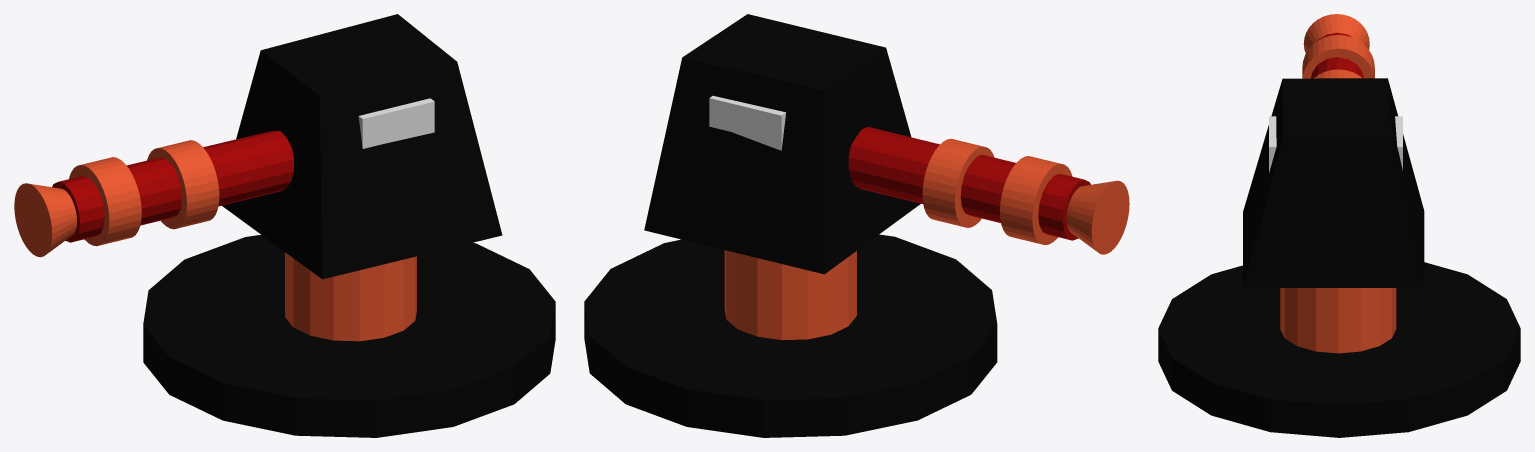
The model's file is CanonTower.fbx.
3 renders of one model, left to right at view 1: azimuth 30°, elevation 25°; view 2: azimuth 150°, elevation 25°; view 3: azimuth 270°, elevation 25°, orthographic. The views are drawn at different scales.
Visible parts, largest first — view 1: Base, Head, HeadTurret, SpinBody, GunThroat, Silencer1, Silencer2, Sensor; view 2: Base, Head, SpinBody, HeadTurret, Silencer1, Silencer2, GunThroat, Sensor; view 3: Base, Head, SpinBody, Silencer1, GunThroat, HeadTurret, Sensor.
Boxes of the visible parts, box(x1,y1,x2,y2) form: Base: box(143, 235, 555, 437); Head: box(222, 14, 502, 279); HeadTurret: box(52, 131, 293, 242); SpinBody: box(285, 252, 416, 341); GunThroat: box(14, 183, 76, 257); Silencer1: box(69, 157, 141, 246); Silencer2: box(147, 140, 219, 229); Sensor: box(358, 98, 434, 148); Base: box(584, 234, 997, 437); Head: box(644, 14, 920, 274); SpinBody: box(724, 250, 856, 340); HeadTurret: box(848, 127, 1090, 240); Silencer1: box(1000, 156, 1072, 245); Silencer2: box(922, 138, 994, 227); GunThroat: box(1066, 180, 1129, 254); Sensor: box(709, 96, 785, 150); Base: box(1158, 262, 1520, 437); Head: box(1243, 78, 1424, 287); SpinBody: box(1280, 288, 1396, 353); Silencer1: box(1302, 35, 1374, 78); GunThroat: box(1303, 14, 1369, 53); HeadTurret: box(1311, 32, 1363, 78); Sensor: box(1269, 116, 1402, 172).
Bounding box in the file's own units: 276 × 157 × 200.
